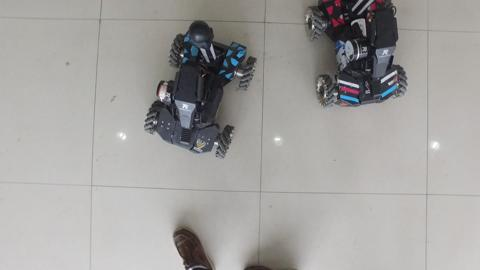chariot: (134, 18, 259, 170), (299, 1, 417, 117)
